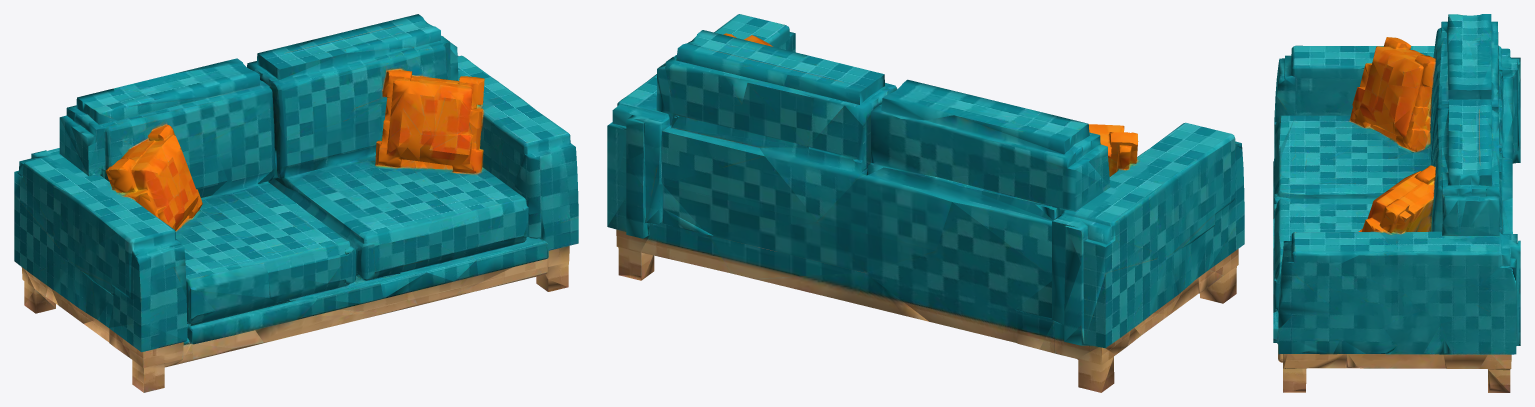
Rendered from teal_lounge_sofa.glb.
3 renders of one model, left to right at view 1: azimuth 30°, elevation 25°; view 2: azimuth 150°, elevation 25°; view 3: azimuth 270°, elevation 25°, orthographic. The views are drawn at different scales.
Size of the model in its own units: 2 by 0.8862 by 1.
1 material, 1 textured.
